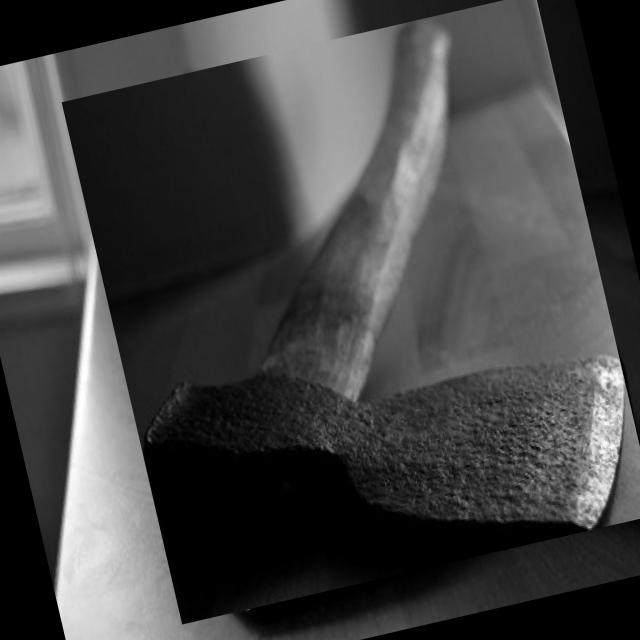Axe: (144, 20, 625, 576)
